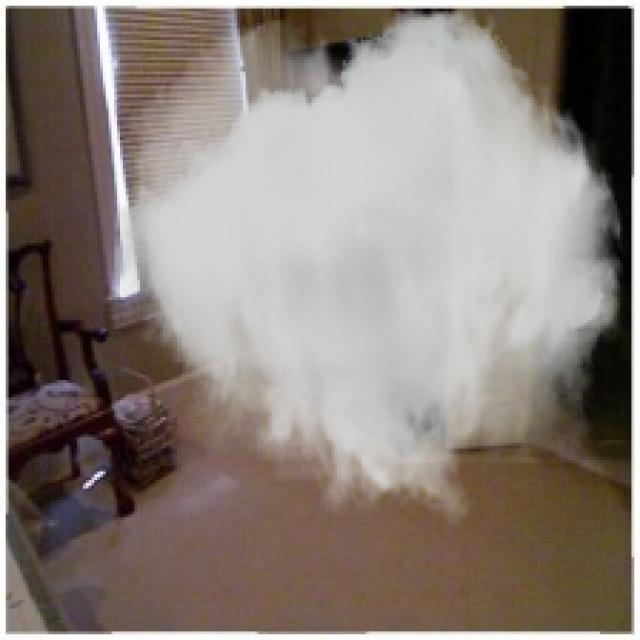Smoke: (114, 9, 629, 528)
